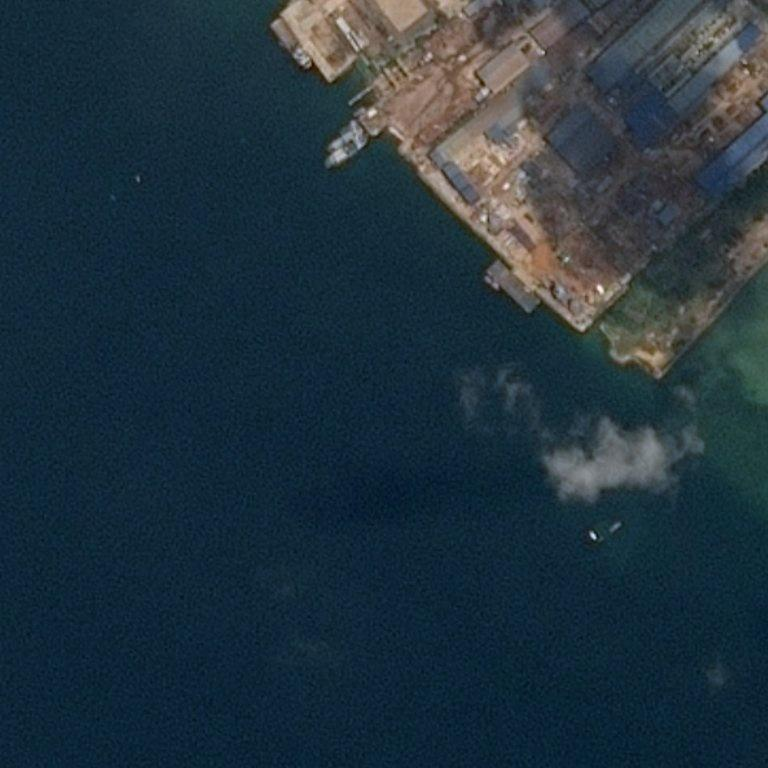ship: (612, 524, 618, 529), (589, 533, 593, 538), (619, 521, 622, 524), (57, 178, 64, 179), (592, 530, 594, 533), (137, 181, 140, 182), (609, 529, 611, 530), (612, 529, 613, 531), (595, 539, 597, 540), (138, 176, 140, 177), (588, 534, 588, 534), (135, 23, 136, 23)
